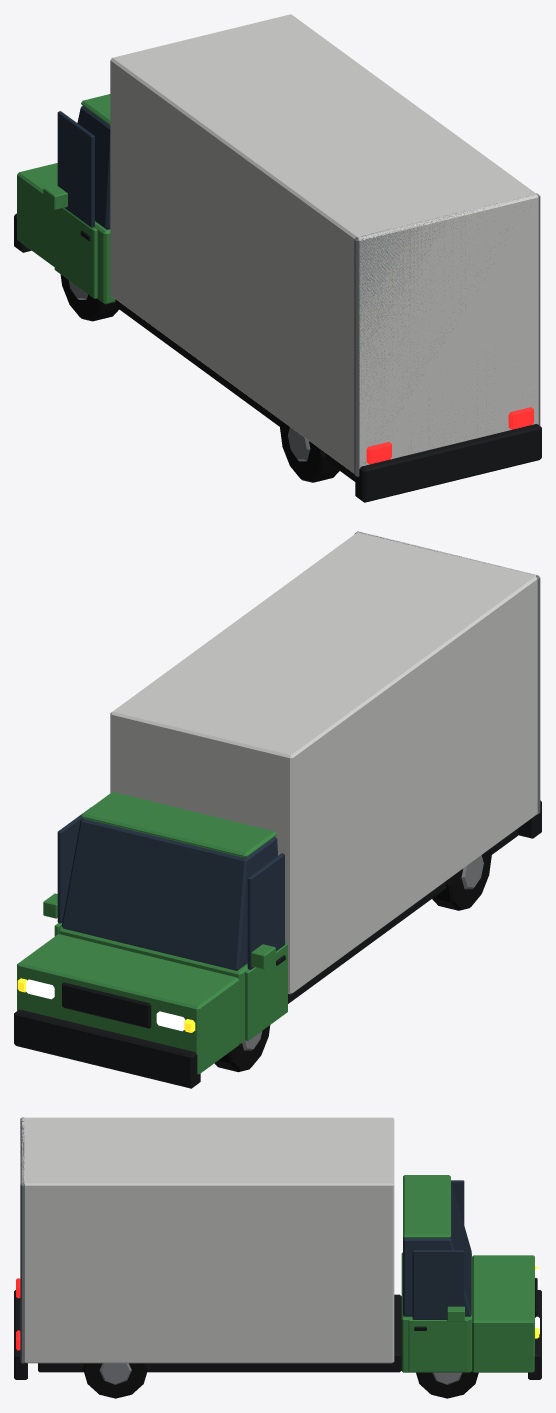
The model's file is car_boxtruck.glb.
The picture shows the model from 3 angles, top to bottom: view 1: azimuth 30°, elevation 25°; view 2: azimuth 150°, elevation 25°; view 3: azimuth 270°, elevation 25°; orthographic projection. The views are drawn at different scales.
Parts seen in each view (by area): view 1: car_body, car_door_FL; view 2: car_body, car_door_FL, car_door_FR; view 3: car_body, car_door_FR.
Part boxes in pixels (<box>): car_body: <box>14,14,541,502</box>; car_door_FL: <box>43,111,97,298</box>; car_body: <box>14,531,541,1088</box>; car_door_FL: <box>245,853,287,1040</box>; car_door_FR: <box>43,807,90,936</box>; car_body: <box>14,1117,541,1398</box>; car_door_FR: <box>408,1250,468,1371</box>.
Bounding box in the file's own units: 2.73 × 3.4 × 7.48.
